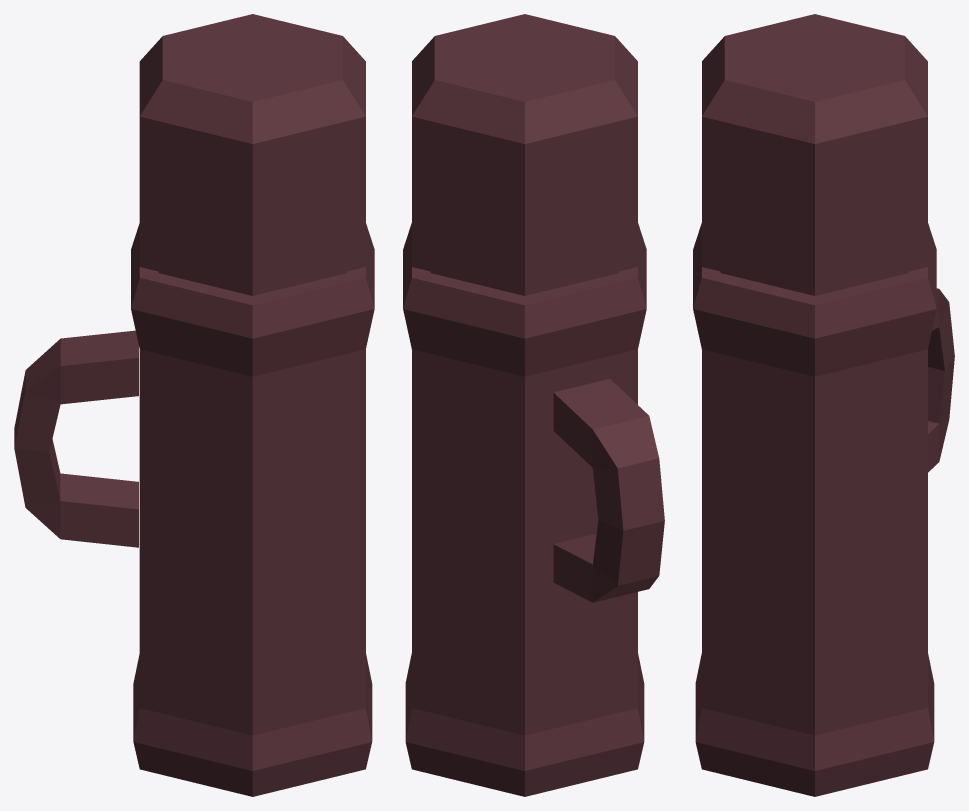
File: props-thermos.glb
The picture shows the model from 3 angles, left to right: view 1: azimuth 30°, elevation 25°; view 2: azimuth 150°, elevation 25°; view 3: azimuth 270°, elevation 25°; orthographic projection.
Visible parts, largest first — view 1: thermos; view 2: thermos; view 3: thermos.
Part boxes in pixels (x1,y1,x2,y2): thermos: [14, 14, 374, 796]; thermos: [403, 14, 664, 796]; thermos: [693, 14, 954, 796].
Size of the model in its own units: 0.1667 by 0.3501 by 0.1215.
